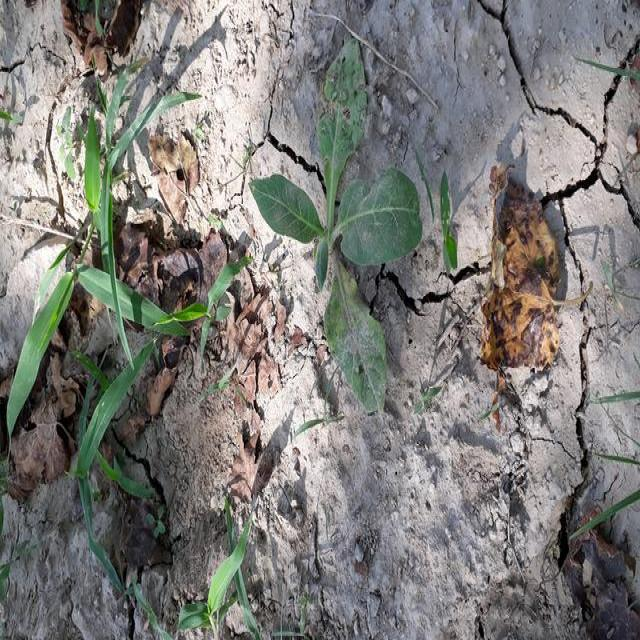crop: (256, 47, 425, 410)
